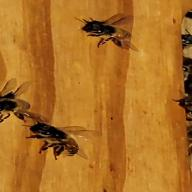Bee: (17, 117, 102, 163), (71, 11, 146, 51)
